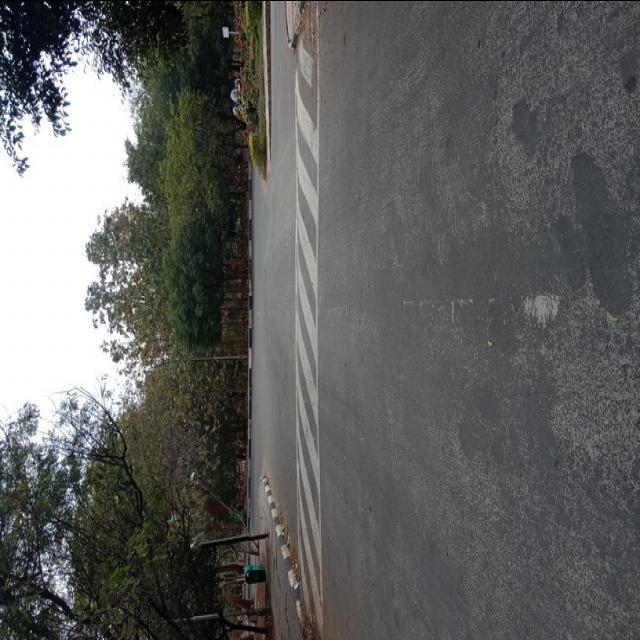speedbreaker: (294, 15, 324, 579)
